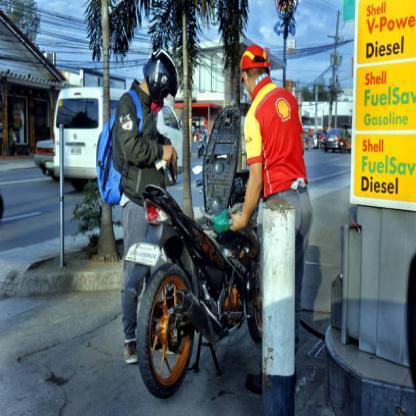Motorcycle: (119, 188, 275, 410)
